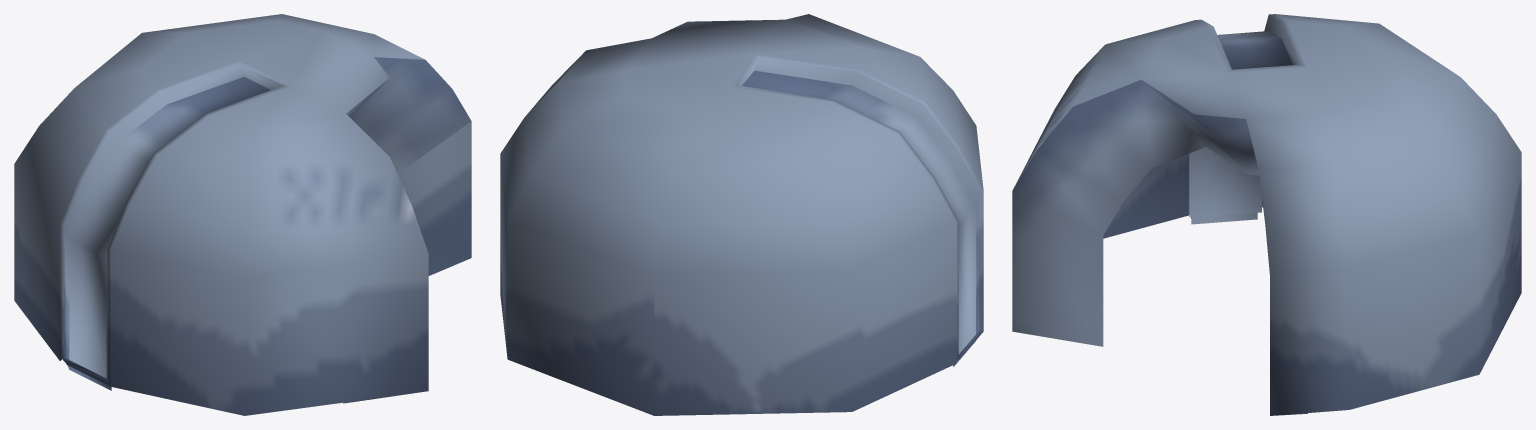
The model's file is MiniCanhaoQuebrado.fbx.
3 views of the same model, side by side, from view 1: azimuth 30°, elevation 25°; view 2: azimuth 150°, elevation 25°; view 3: azimuth 270°, elevation 25° (orthographic). The views are drawn at different scales.
Visible parts, largest first — view 1: MiniCanhaoQuebrado; view 2: MiniCanhaoQuebrado; view 3: MiniCanhaoQuebrado.
Boxes of the visible parts, box(x1,y1,x2,y2) form: MiniCanhaoQuebrado: box(14, 14, 471, 415); MiniCanhaoQuebrado: box(500, 14, 983, 415); MiniCanhaoQuebrado: box(1012, 14, 1521, 415).
Size of the model in its own units: 249 by 258 by 155.
